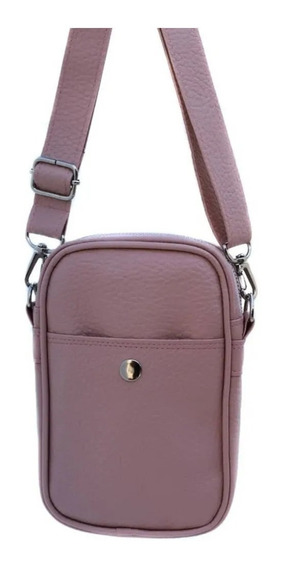cartera: (20, 227, 250, 541)
